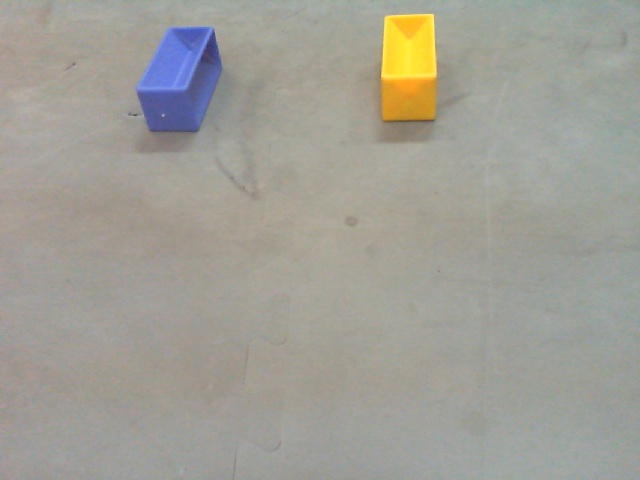BlueSample: (132, 27, 226, 140)
YellowSample: (377, 11, 438, 125)
